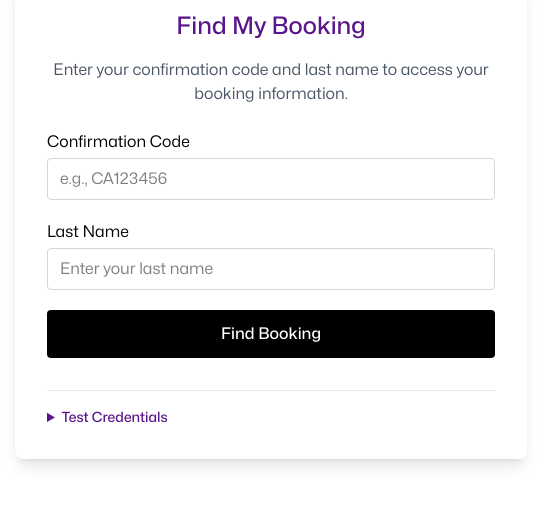
it: FindBookingForm › validates confirmation code format
Type "Reddington" into the field labelled "Last Name" at [271, 269], box left=47, top=248, right=495, bottom=290
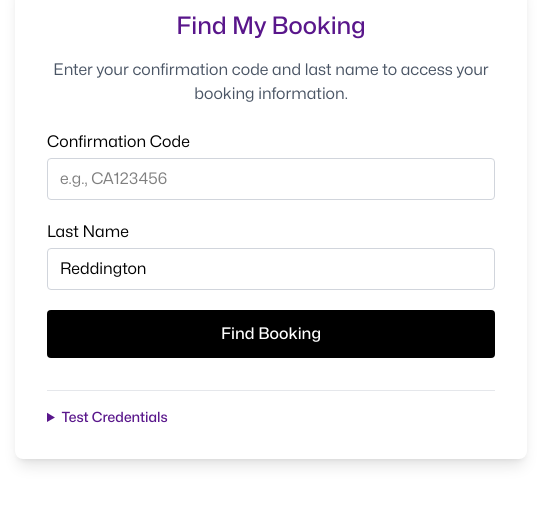
Click the button "Find Booking" at [271, 334], box left=47, top=310, right=495, bottom=358
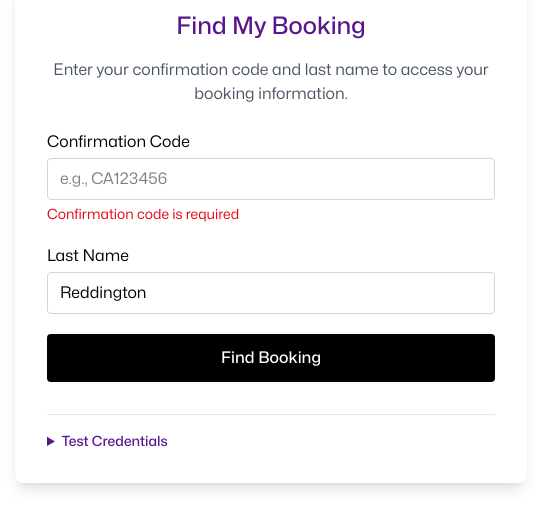
Result: the text "Confirmation code is required" is shown at left=47, top=205, right=239, bottom=222
Note: Invalid format
Type "ABC123" into the field labelled "Confirmation Code" at [271, 179], box left=47, top=158, right=495, bottom=200
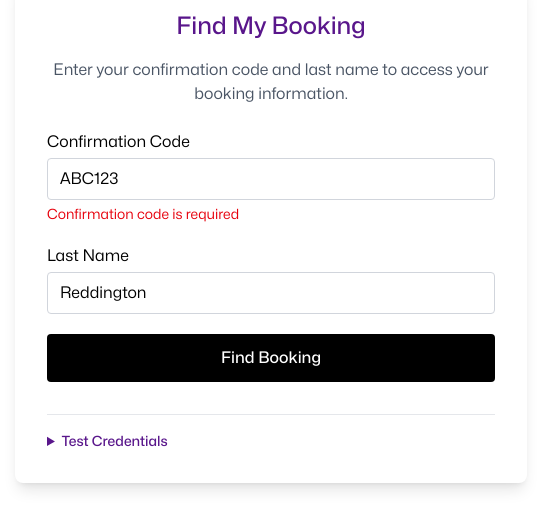
Click the button "Find Booking" at [271, 358], box left=47, top=334, right=495, bottom=382
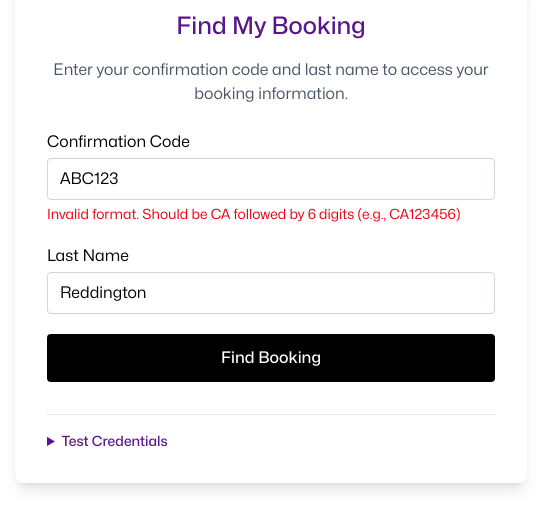
Result: the text "Invalid format" is shown at left=47, top=205, right=461, bottom=222
